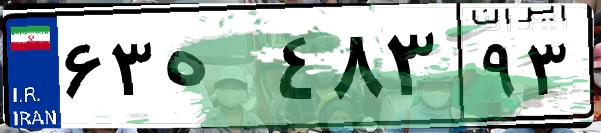3: (385, 28, 445, 110), (525, 38, 570, 115), (110, 28, 158, 98)
4: (270, 28, 330, 110)
6: (57, 26, 110, 100)
8: (330, 28, 385, 110)
9: (475, 38, 525, 113)
ه: (158, 20, 270, 120)
